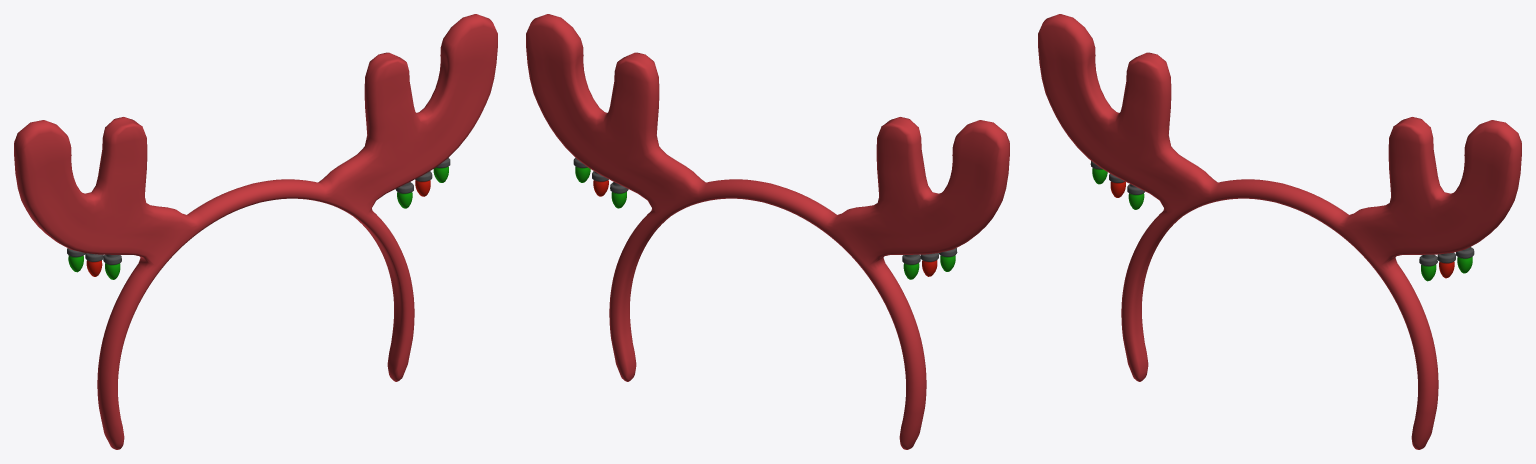
The model's file is christmas_reindeer_headband.glb.
3 views of the same model, side by side, from view 1: azimuth 30°, elevation 25°; view 2: azimuth 150°, elevation 25°; view 3: azimuth 330°, elevation 25° (orthographic).
Visible parts, largest first — view 1: Orejas_de_reno; view 2: Orejas_de_reno; view 3: Orejas_de_reno.
Part boxes in pixels (x1,y1,x2,y2): Orejas_de_reno: [14, 14, 497, 449]; Orejas_de_reno: [526, 14, 1009, 449]; Orejas_de_reno: [1038, 14, 1521, 449].
Size of the model in its own units: 0.4865 by 0.3368 by 0.0243.
Materials: 3 (2 with a texture image).
